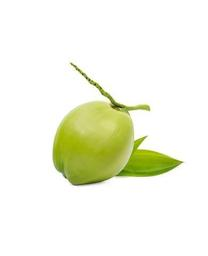coconut: (51, 100, 135, 186)
